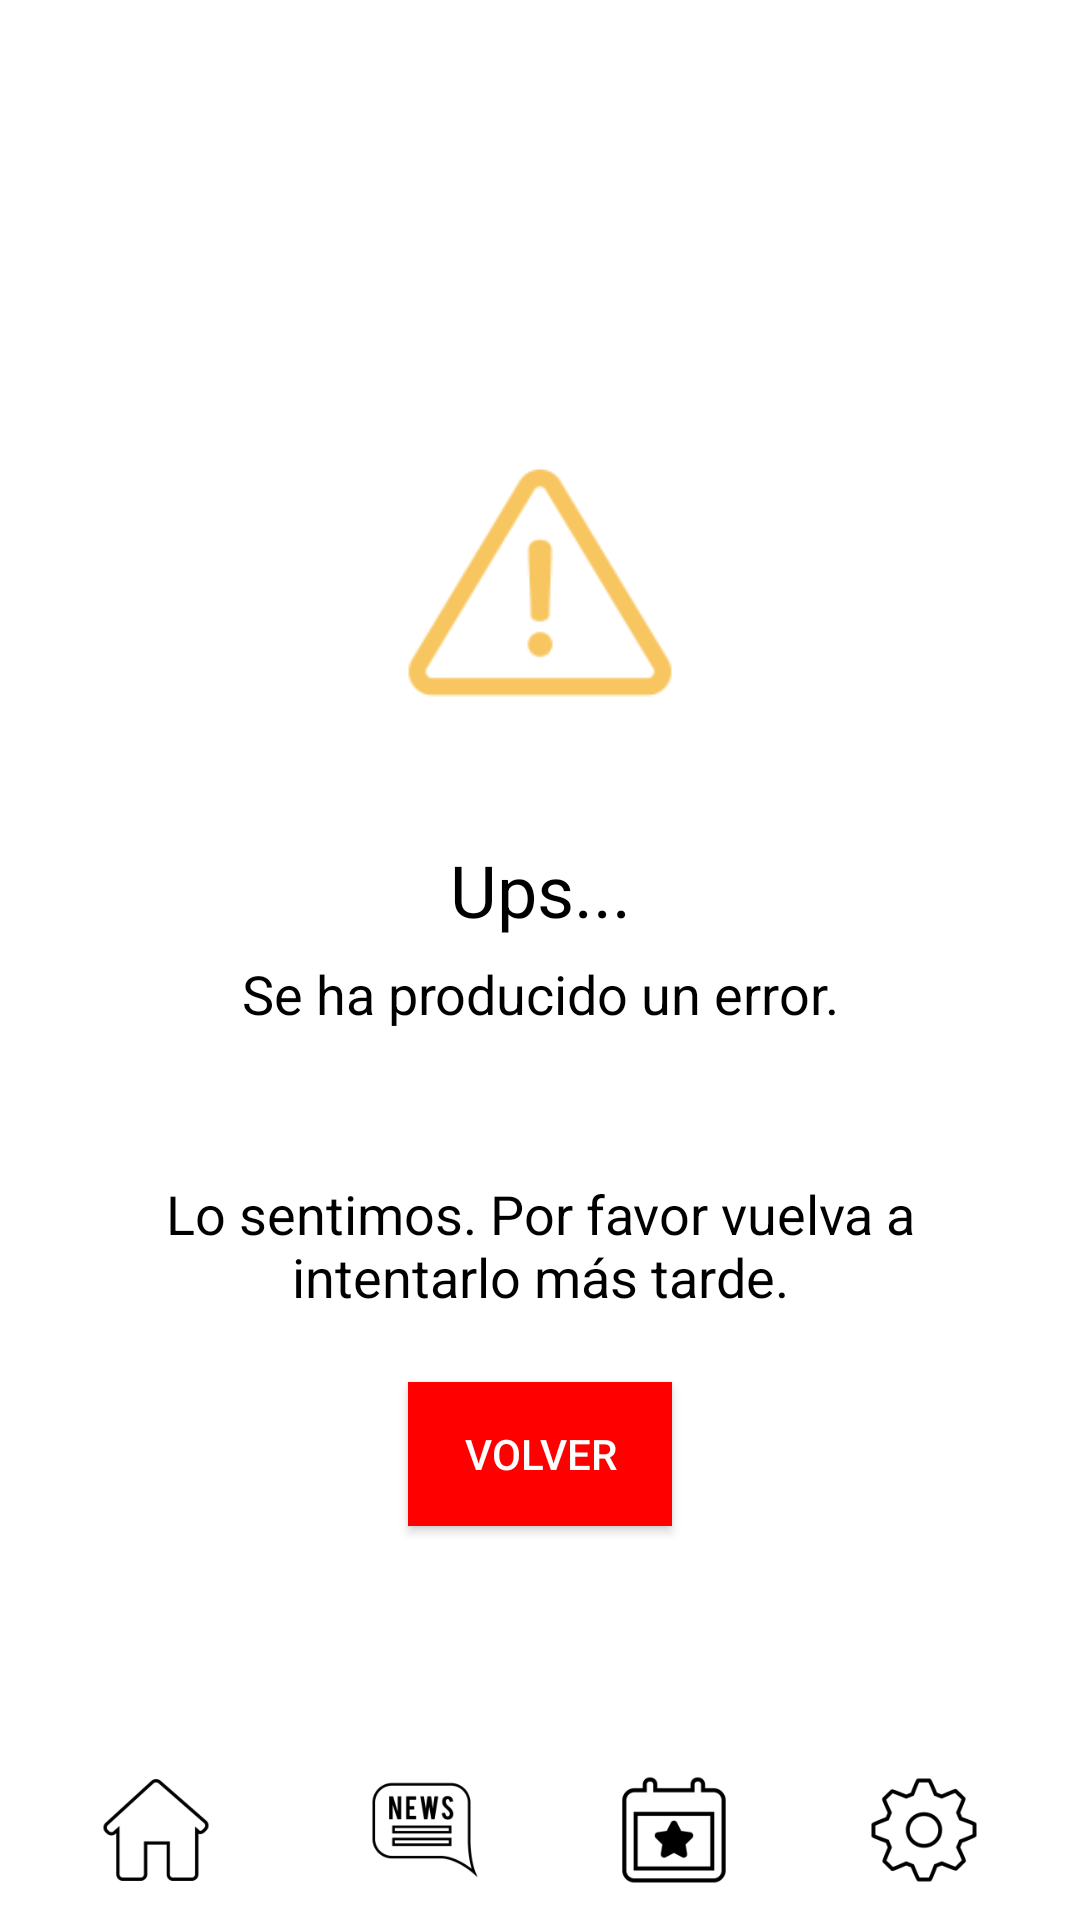

Screen size 1080x1920. Icon name, then its box in pixels as (x1, y1, x2, y2):
ajustes claro: (871, 1778, 977, 1882)
eventos claro: (622, 1777, 726, 1883)
home claro: (103, 1779, 209, 1881)
